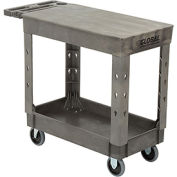Carts: (4, 1, 174, 176)
